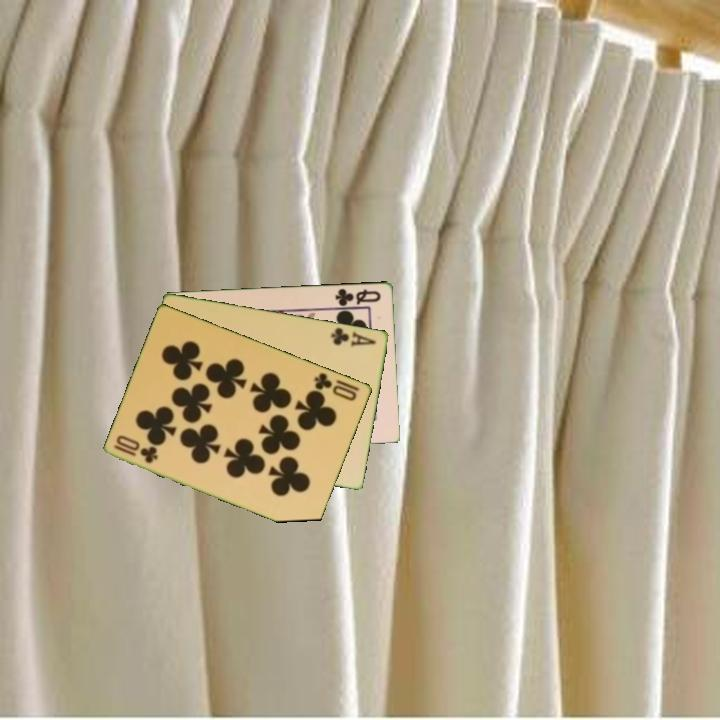10c: (311, 369, 360, 404), (110, 441, 162, 466)
Ac: (328, 324, 379, 349)
Qc: (332, 285, 384, 309)
